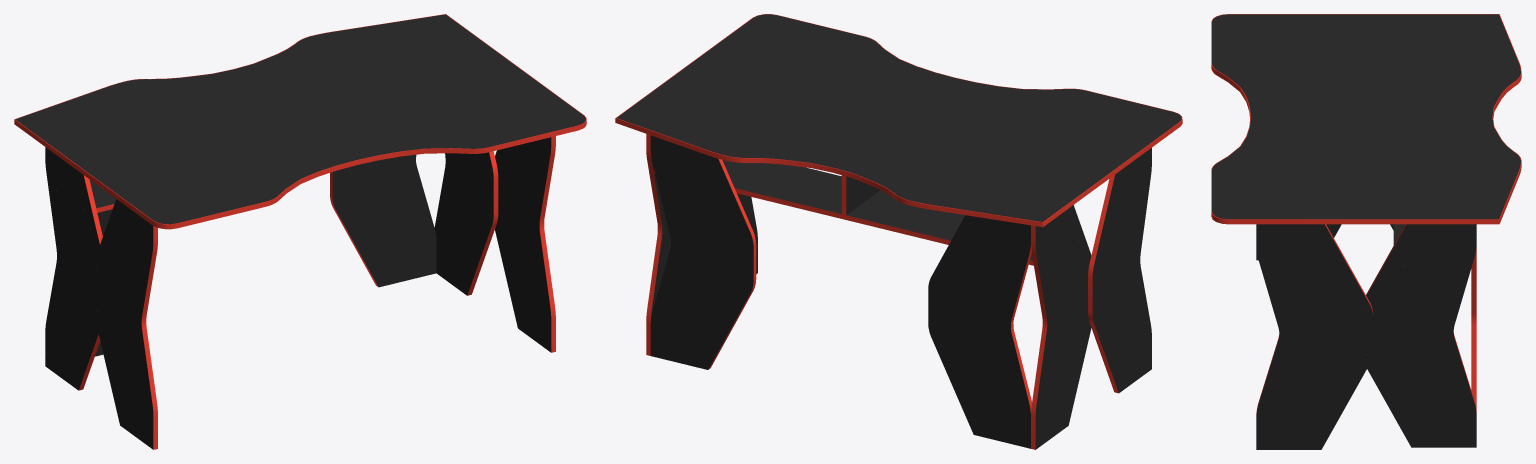
The model's file is table.glb.
3 views of the same model, side by side, from view 1: azimuth 30°, elevation 25°; view 2: azimuth 150°, elevation 25°; view 3: azimuth 270°, elevation 25° (orthographic). The views are drawn at different scales.
Visible parts, largest first — view 1: Desk; view 2: Desk; view 3: Desk.
Boxes of the visible parts, box(x1,y1,x2,y2) form: Desk: box(14, 14, 586, 449); Desk: box(615, 14, 1182, 449); Desk: box(1211, 14, 1521, 449).
Bounding box in the file's own units: 140 × 75.3 × 89.2.
